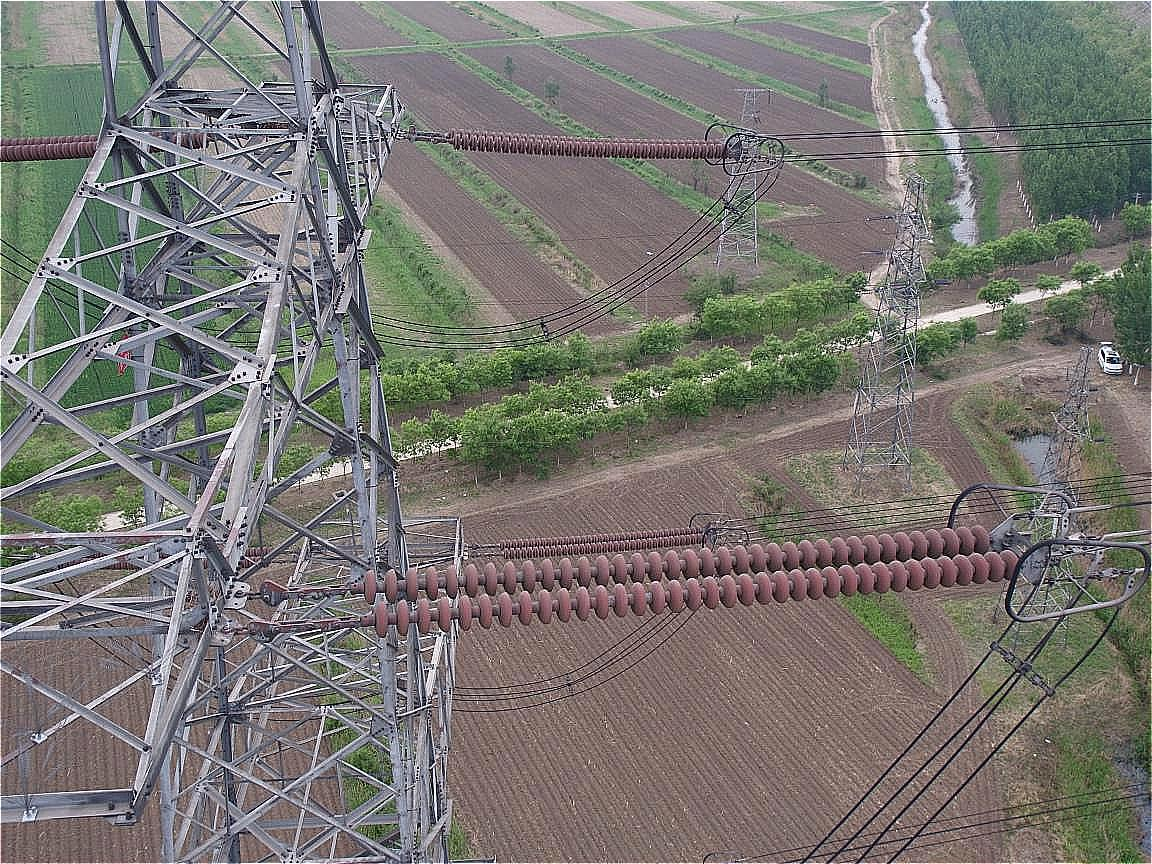insultor1: (364, 512, 1028, 646)
insultor2: (433, 115, 744, 173), (471, 519, 716, 556)
